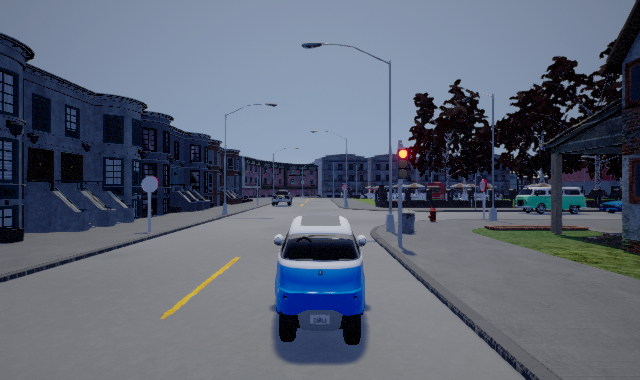traffic_light: (396, 147, 409, 180)
traffic_sign: (478, 178, 487, 192), (341, 184, 348, 191)
vehicle: (274, 215, 367, 345), (515, 188, 586, 213), (271, 189, 292, 206)
